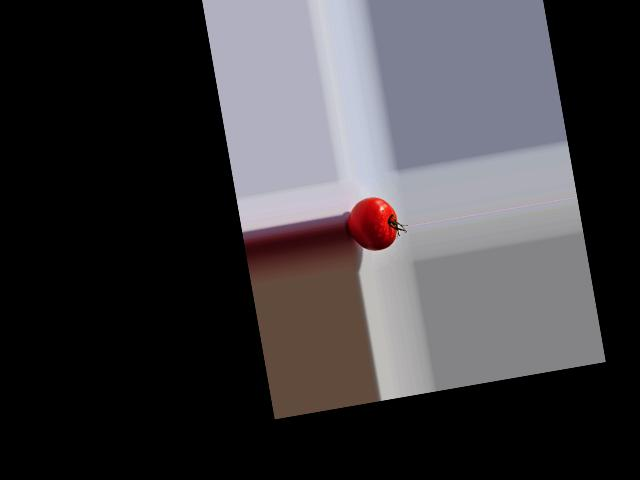tomato: (343, 193, 400, 254)
